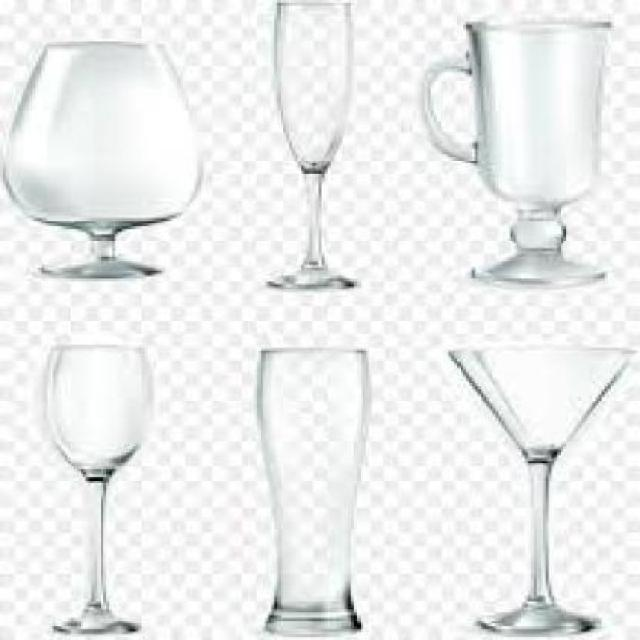kaca: (446, 342, 634, 629), (415, 20, 611, 285), (0, 38, 198, 276), (254, 348, 360, 637), (39, 342, 144, 632), (268, 0, 357, 291)
